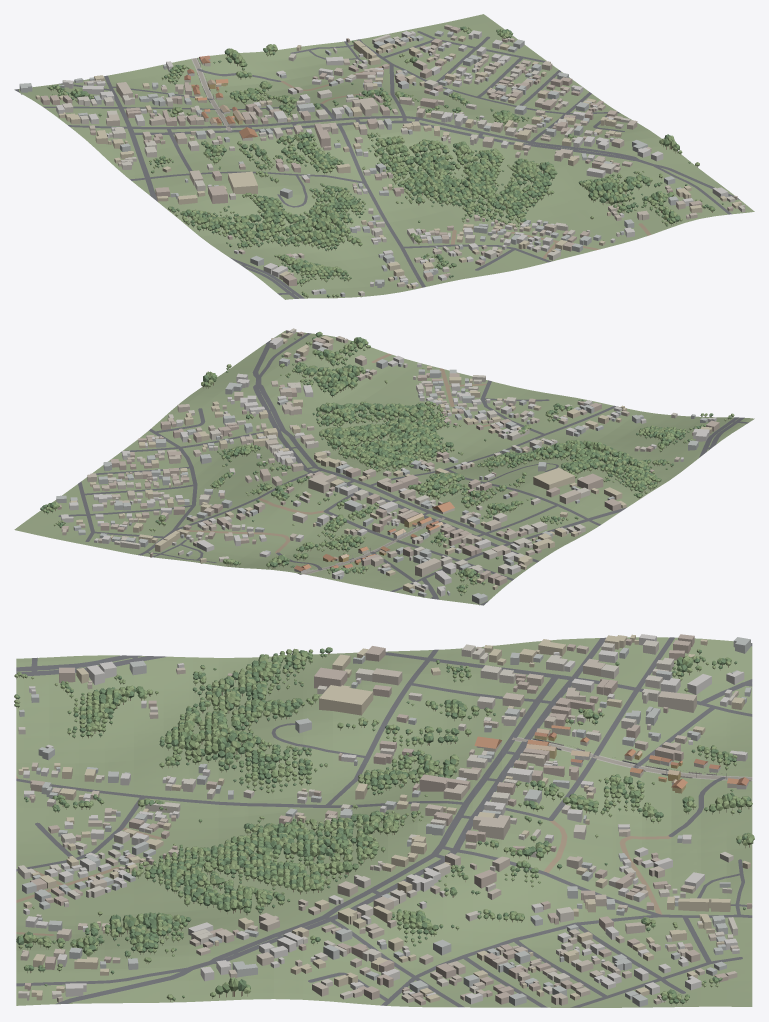
Rendered from piloto-15nov.glb.
The picture shows the model from 3 angles, top to bottom: view 1: azimuth 30°, elevation 25°; view 2: azimuth 150°, elevation 25°; view 3: azimuth 270°, elevation 25°; orthographic projection. The views are drawn at different scales.
Parts seen in each view (by area): view 1: terreno-col, predios-col, arvores_copas, ruas_paved-col, telhados, arvores_troncos-col, predios_regra-col, ruas_unpaved-col; view 2: terreno-col, predios-col, arvores_copas, ruas_paved-col, telhados, arvores_troncos-col, ruas_unpaved-col, predios_regra-col; view 3: terreno-col, predios-col, arvores_copas, ruas_paved-col, telhados, ruas_unpaved-col, arvores_troncos-col, predios_regra-col.
Boxes of the visible parts, <box> form: terreno-col: <box>14,14,754,299</box>; predios-col: <box>19,24,745,297</box>; arvores_copas: <box>47,26,723,297</box>; ruas_paved-col: <box>15,31,739,298</box>; telhados: <box>184,55,257,138</box>; arvores_troncos-col: <box>50,30,712,297</box>; predios_regra-col: <box>184,58,252,140</box>; ruas_unpaved-col: <box>280,64,650,288</box>; terreno-col: <box>14,330,754,605</box>; predios-col: <box>56,328,719,605</box>; arvores_copas: <box>40,331,734,595</box>; ruas_paved-col: <box>58,333,748,605</box>; telhados: <box>294,501,454,571</box>; arvores_troncos-col: <box>44,337,732,593</box>; ruas_unpaved-col: <box>176,353,620,553</box>; predios_regra-col: <box>294,508,454,574</box>; terreno-col: <box>16,637,752,1007</box>; predios-col: <box>18,634,751,1006</box>; arvores_copas: <box>14,647,754,1003</box>; ruas_paved-col: <box>16,637,752,1007</box>; telhados: <box>474,725,749,788</box>; ruas_unpaved-col: <box>16,775,671,935</box>; arvores_troncos-col: <box>16,653,749,1005</box>; predios_regra-col: <box>476,728,748,793</box>.
Size of the model in its own units: 805 by 80.08 by 805.
